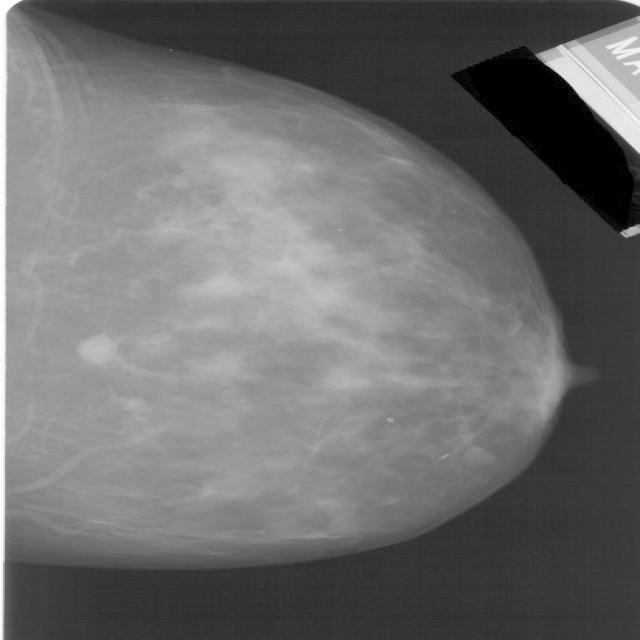tumour: (74, 332, 119, 362)
